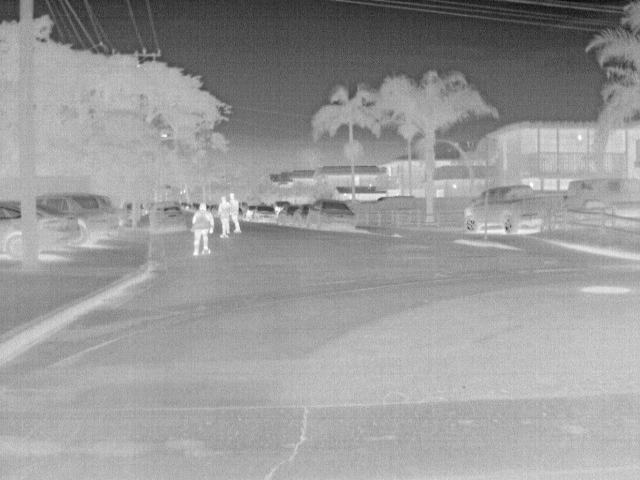car: (37, 192, 116, 250), (488, 183, 568, 232), (39, 204, 87, 257), (307, 198, 359, 230), (150, 200, 188, 234), (1, 200, 21, 262), (460, 188, 484, 234), (277, 206, 301, 224), (253, 206, 277, 222)
person: (190, 203, 214, 255), (226, 193, 243, 235), (217, 196, 234, 233)
